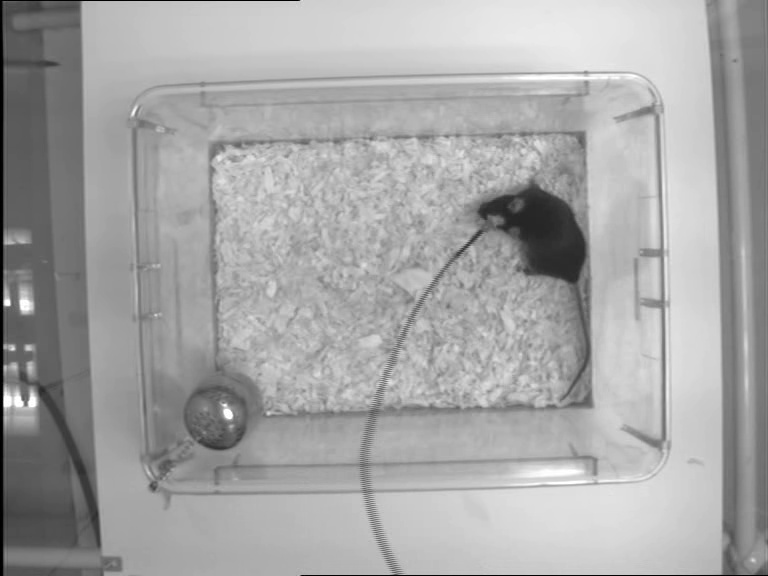mice: (477, 176, 592, 400)
